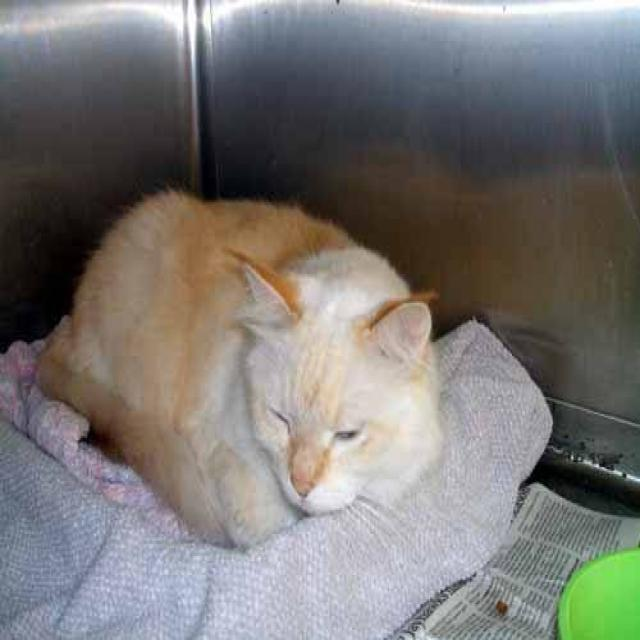cat: (33, 185, 444, 551)
